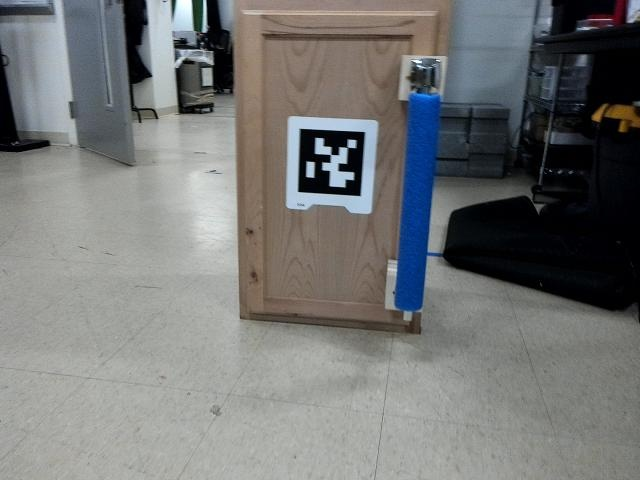noodle_handle: (383, 79, 452, 315)
